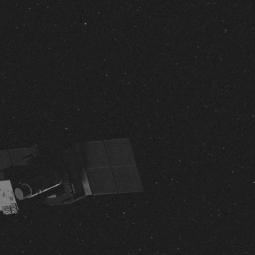soho: (0, 134, 135, 221)
